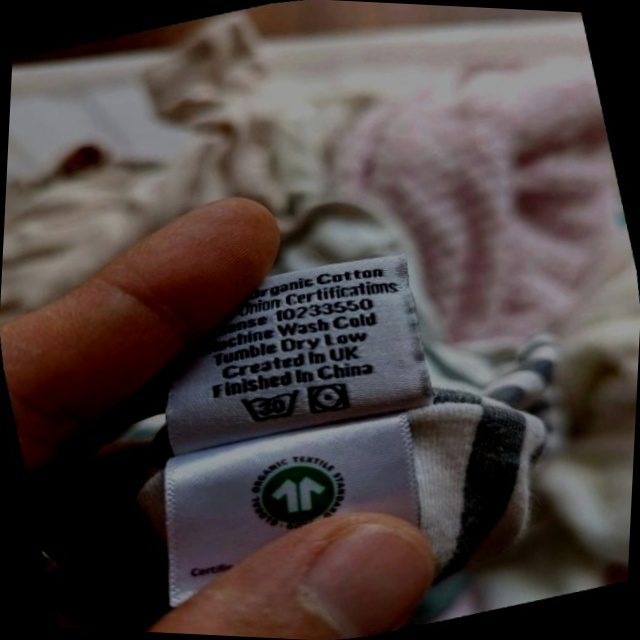30C: (232, 379, 309, 433)
tumble_dry_low: (301, 374, 356, 423)
